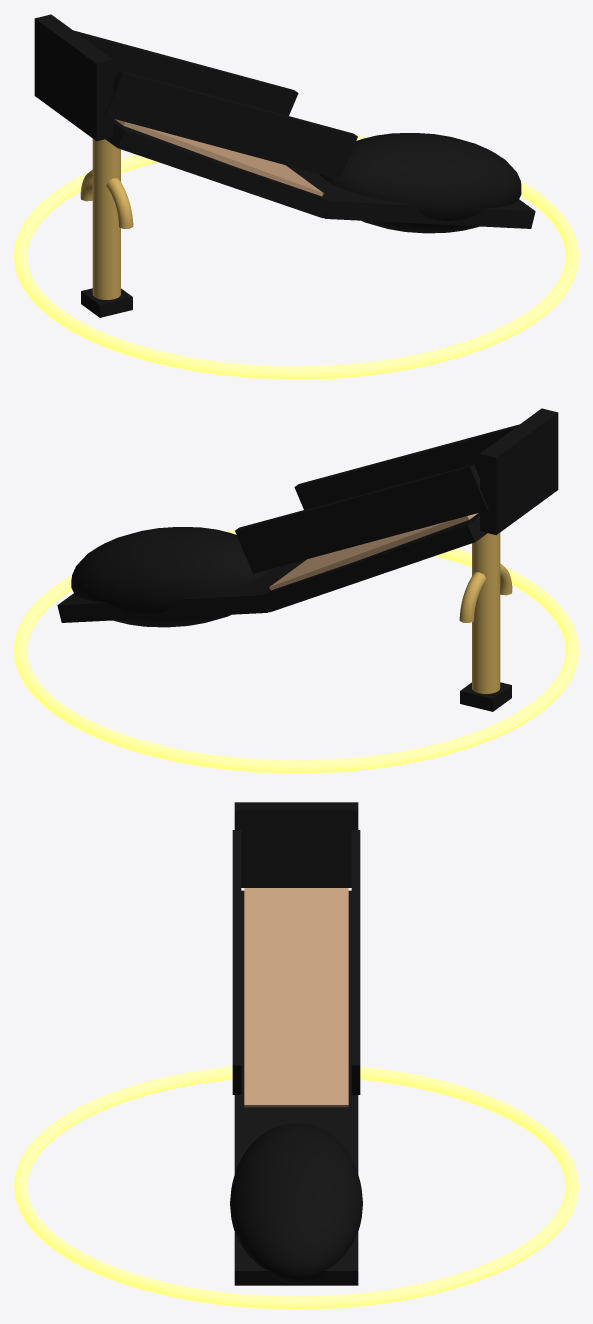
The model's file is ysl-opyum-pumps.glb.
The picture shows the model from 3 angles, top to bottom: view 1: azimuth 30°, elevation 25°; view 2: azimuth 150°, elevation 25°; view 3: azimuth 270°, elevation 25°; orthographic projection.
Visible parts, largest first — view 1: Vamp, SideL, Halo, HeelCounter, SideR, SoleBack, SoleFront, Heel, Insole, HeelCurve, HeelTip; view 2: Vamp, SideR, Halo, HeelCounter, SideL, SoleBack, SoleFront, Heel, Insole, HeelCurve, HeelTip; view 3: Insole, Vamp, Halo, HeelCounter, SoleFront, SideL, SideR, SoleBack.
Boxes of the visible parts, bbox=[...] form: Vamp: bbox=[320, 133, 521, 233]; SideL: bbox=[104, 70, 357, 179]; Halo: bbox=[14, 136, 578, 379]; HeelCounter: bbox=[34, 14, 112, 141]; SideR: bbox=[73, 30, 298, 115]; SoleBack: bbox=[105, 118, 329, 218]; SoleFront: bbox=[286, 165, 535, 228]; Heel: bbox=[92, 139, 120, 299]; Insole: bbox=[114, 119, 323, 196]; HeelCurve: bbox=[80, 169, 133, 228]; HeelTip: bbox=[81, 288, 132, 317]; Vamp: bbox=[71, 527, 272, 627]; SideR: bbox=[235, 464, 488, 573]; Halo: bbox=[14, 530, 578, 773]; HeelCounter: bbox=[480, 408, 558, 535]; SideL: bbox=[294, 424, 519, 509]; SoleBack: bbox=[263, 512, 487, 612]; SoleFront: bbox=[57, 559, 306, 622]; Heel: bbox=[472, 533, 500, 693]; Insole: bbox=[269, 513, 478, 590]; HeelCurve: bbox=[459, 563, 512, 622]; HeelTip: bbox=[460, 682, 511, 711]; Insole: bbox=[244, 888, 348, 1107]; Vamp: bbox=[230, 1123, 362, 1283]; Halo: bbox=[14, 1066, 578, 1309]; HeelCounter: bbox=[234, 802, 358, 887]; SoleFront: bbox=[234, 1111, 358, 1285]; SideL: bbox=[232, 830, 241, 1094]; SideR: bbox=[351, 830, 360, 1094]; SoleBack: bbox=[234, 890, 358, 1110].
Bounding box in the file's own units: 0.1188 × 0.0644 × 0.1188.
